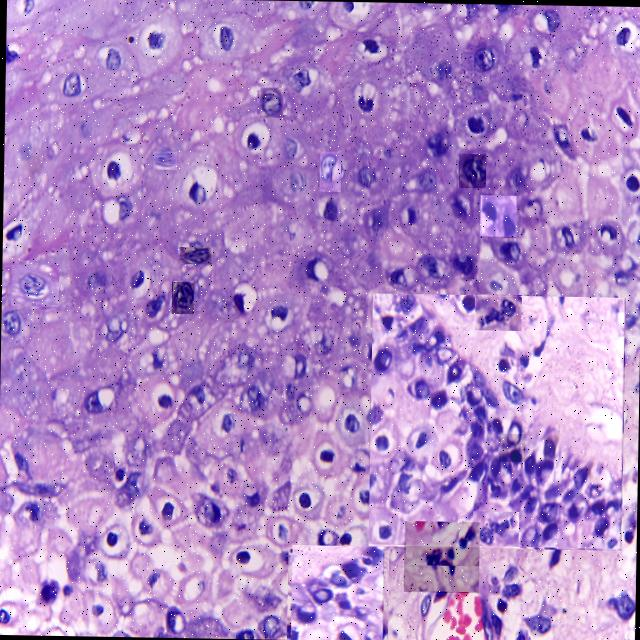Multiple Nucleol: (10, 264, 58, 304), (458, 153, 485, 187), (319, 150, 340, 190), (498, 432, 524, 460), (170, 281, 193, 312), (259, 87, 281, 116), (179, 246, 210, 263), (152, 150, 176, 168)
Nuclear Hyperchromatism: (371, 293, 619, 547), (290, 545, 382, 640), (403, 521, 478, 591), (474, 295, 520, 328), (479, 194, 515, 235)
